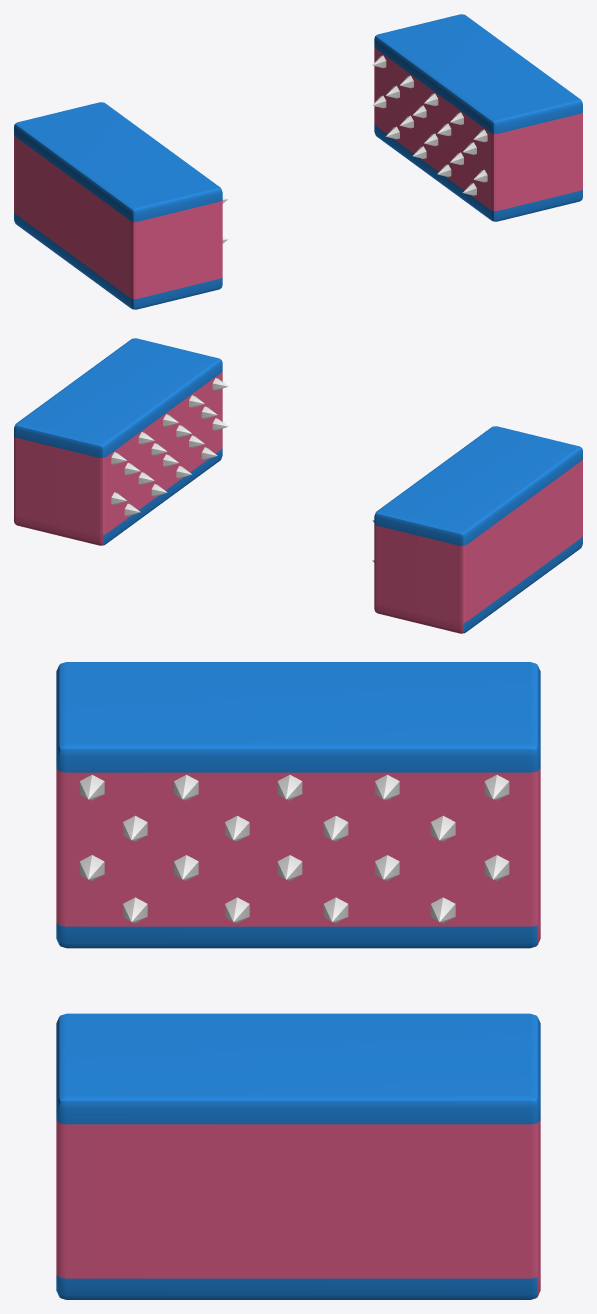
File: trap_04.fbx
The picture shows the model from 3 angles, top to bottom: view 1: azimuth 30°, elevation 25°; view 2: azimuth 150°, elevation 25°; view 3: azimuth 270°, elevation 25°; orthographic projection. The views are drawn at different scales.
Parts seen in each view (by area): view 1: trap_04_L, trap_04_R; view 2: trap_04_R, trap_04_L; view 3: trap_04_L, trap_04_R.
Boxes of the visible parts, bbox=[...] form: trap_04_L: bbox=[14, 102, 228, 309]; trap_04_R: bbox=[372, 14, 582, 221]; trap_04_R: bbox=[14, 338, 228, 545]; trap_04_L: bbox=[372, 426, 582, 633]; trap_04_L: bbox=[56, 662, 540, 948]; trap_04_R: bbox=[56, 1013, 540, 1299].
Bounding box in the file's own units: 1527 × 330 × 708.
